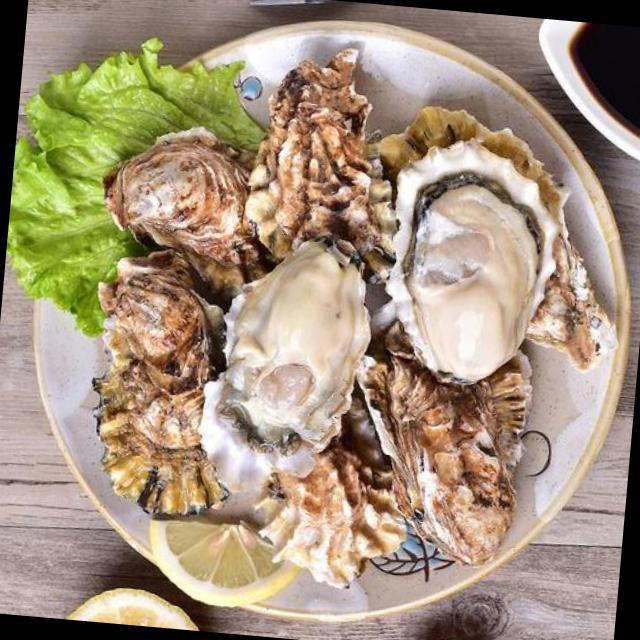Oyster- Indeterminate: (369, 100, 623, 377), (348, 295, 540, 572), (81, 241, 234, 527), (95, 118, 284, 312), (243, 382, 412, 598), (242, 40, 376, 268)
Oyster-Open: (193, 227, 374, 497), (382, 129, 563, 389)
